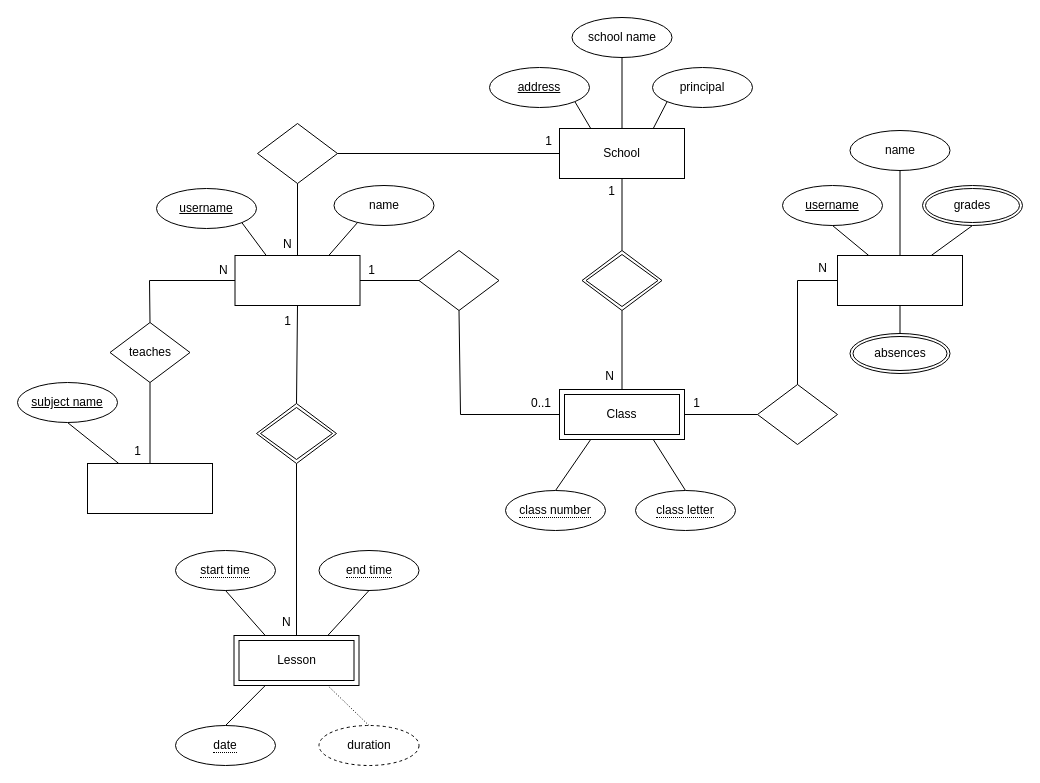
Some shapes in this 1040 by 783 pixel diagram are drawn without their labels. Here are the shapes that lost their labels. From the top down, the centre of each, then its label:
pixel 297 153: works at
pixel 297 280: Teacher
pixel 458 280: leads
pixel 621 280: has
pixel 899 280: Student
pixel 296 433: manages
pixel 797 414: belongs to
pixel 149 488: Subject
